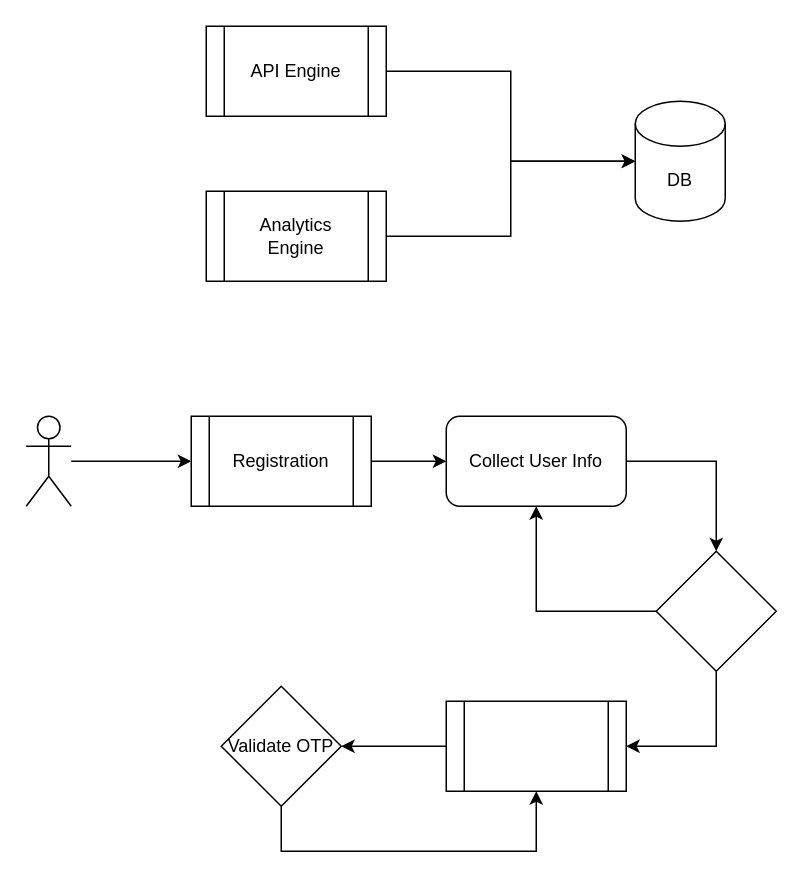
Some shapes in this 803 by 890 pixel diagram are drawn without their labels. The shapes that lost their labels are listed below. From the top down, each one's box as (x1, y1, x2, y2) in pixels, then its label:
(25, 415, 71, 506): User
(655, 550, 776, 671): validation
(445, 700, 626, 791): Generate and send OTP
